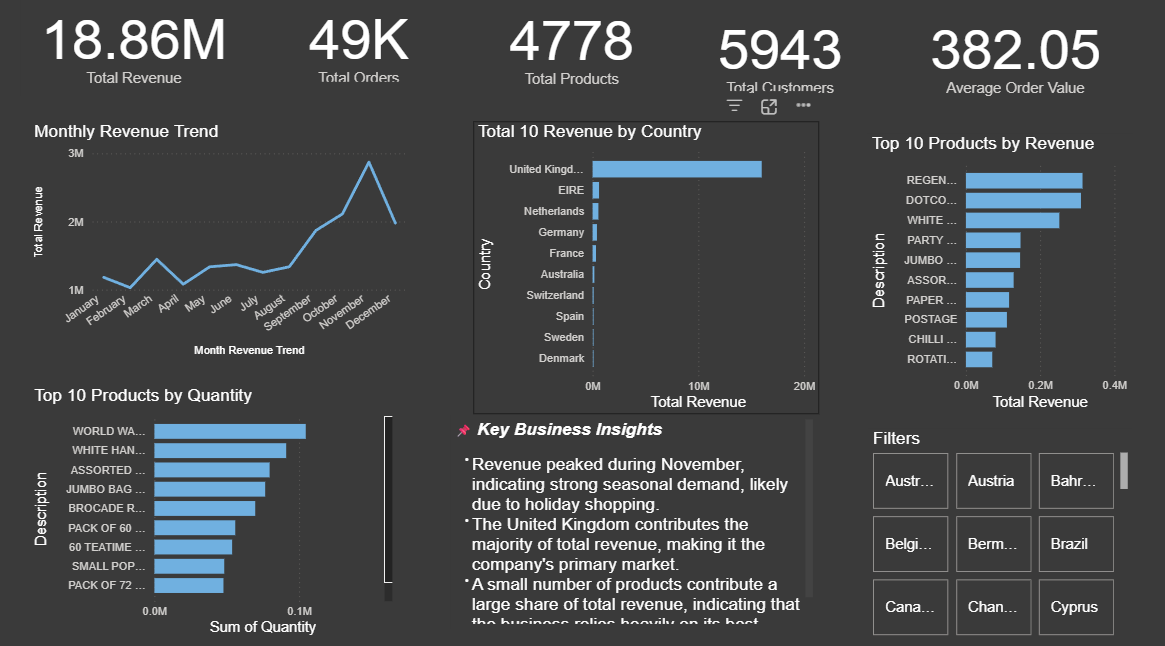

The page's visual inventory and layout, read from the dashboard file:
{"tool":"powerbi","page":{"name":"Page 1","canvas":[1280,720],"ordinal":0},"visuals":[{"type":"card","fields":{"Values":["Cleaned_Data.Total Customers"]},"box":[742.4,11,222.3,113.9],"z":0},{"type":"card","fields":{"Values":["Cleaned_Data.Total Orders"]},"box":[293.7,11,214.1,93.3],"z":1},{"type":"card","fields":{"Values":["Cleaned_Data.Total Products"]},"box":[498.1,1.4,263.5,113.9],"z":2},{"type":"card","fields":{"Values":["Cleaned_Data.Total Revenue"]},"box":[35.7,1.4,244.3,112.5],"z":3},{"type":"lineChart","title":"Monthly Revenue Trend","fields":{"Category":["Cleaned_Data.Month_Name"],"Y":["Cleaned_Data.Total Revenue"]},"box":[45.3,141.3,410.3,258],"z":4},{"type":"clusteredBarChart","title":"Total 10 Revenue by Country","fields":{"Category":["Cleaned_Data.Country"],"Y":["Cleaned_Data.Total Revenue"]},"box":[522.8,141.3,373.2,315.6],"z":5},{"type":"clusteredBarChart","title":"Top 10 Products by Revenue","fields":{"Category":["Cleaned_Data.Description"],"Y":["Cleaned_Data.Total Revenue"]},"box":[946.8,155.1,285.4,301.9],"z":6},{"type":"clusteredBarChart","title":"Top 10 Products by Quantity","fields":{"Category":["Cleaned_Data.Description"],"Y":["Sum(Cleaned_Data.Quantity)"]},"box":[45.3,425.4,395.2,274.4],"z":7},{"type":"textbox","box":[498.6,457.1,394.3,230],"z":9},{"type":"card","fields":{"Values":["Cleaned_Data.Average Order Value"]},"box":[979.8,11,252.5,113.9],"z":10},{"type":"advancedSlicerVisual","title":"Filters","fields":{"Values":["Cleaned_Data.Country"]},"box":[948.6,471.4,284.3,228.6],"z":11}]}

Visuals, with their boxes in screenshot pixels (x1, y1, x2, y2), scaled from the page's 1280x720 canvas onto the 1165x646 screenshot:
card - Cleaned_Data.Total Customers: 676/10/878/112
card - Cleaned_Data.Total Orders: 267/10/462/94
card - Cleaned_Data.Total Products: 453/1/693/103
card - Cleaned_Data.Total Revenue: 32/1/255/102
"Monthly Revenue Trend" lineChart: 41/127/415/358
"Total 10 Revenue by Country" clusteredBarChart: 476/127/816/410
"Top 10 Products by Revenue" clusteredBarChart: 862/139/1121/410
"Top 10 Products by Quantity" clusteredBarChart: 41/382/401/628
textbox: 454/410/813/616
card - Cleaned_Data.Average Order Value: 892/10/1122/112
"Filters" advancedSlicerVisual: 863/423/1122/628
